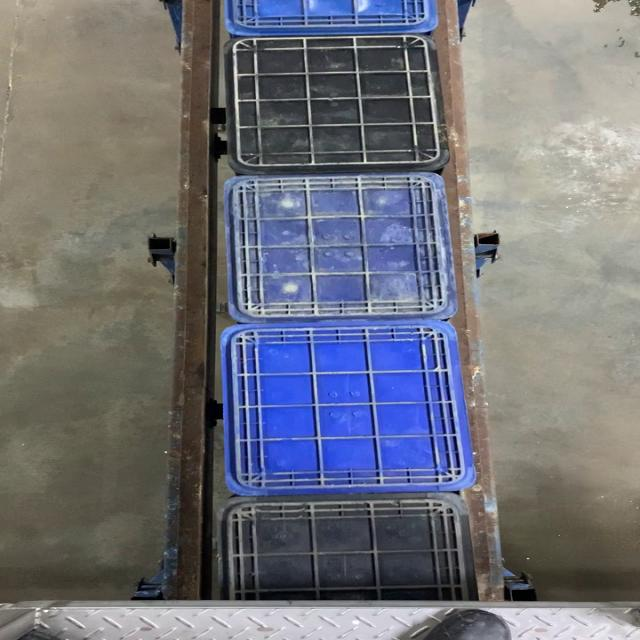Box: (216, 324, 476, 496), (220, 174, 460, 320), (218, 36, 450, 170)
